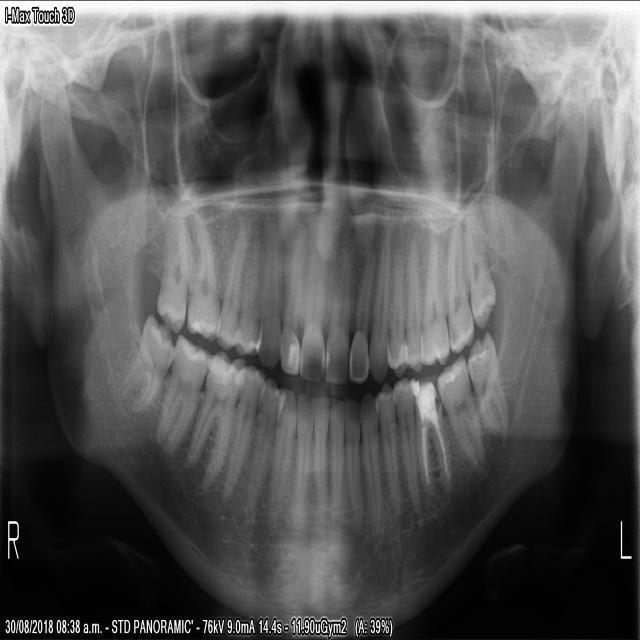LCD: (358, 384, 385, 531)
LCU: (366, 203, 395, 389)
LID: (341, 389, 365, 537), (326, 391, 344, 524)
LIU: (321, 236, 357, 390), (346, 229, 377, 386)
LMD: (433, 345, 485, 472), (405, 365, 452, 503), (464, 324, 509, 439)
LMU: (417, 222, 451, 367), (443, 202, 475, 355), (463, 199, 498, 330)
LPMD: (389, 370, 422, 519), (373, 372, 401, 518)
LPMU: (383, 225, 406, 378), (401, 225, 424, 374)
RCD: (265, 379, 298, 523)
RCU: (253, 205, 282, 376)
RID: (290, 386, 314, 527), (311, 389, 329, 525)
RIU: (296, 222, 327, 383), (277, 220, 305, 378)
RMD: (182, 344, 244, 504), (150, 328, 210, 457), (112, 305, 179, 418)
RMU: (183, 198, 220, 339), (153, 203, 189, 336)
RPMD: (210, 358, 267, 514), (239, 368, 286, 521)
RPMU: (213, 206, 247, 354), (229, 216, 264, 358)
